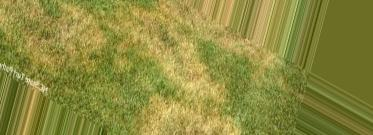patch: (151, 30, 191, 62), (177, 65, 217, 93), (161, 105, 194, 130), (25, 29, 47, 66), (63, 16, 90, 40), (205, 112, 222, 135), (97, 32, 108, 40)
